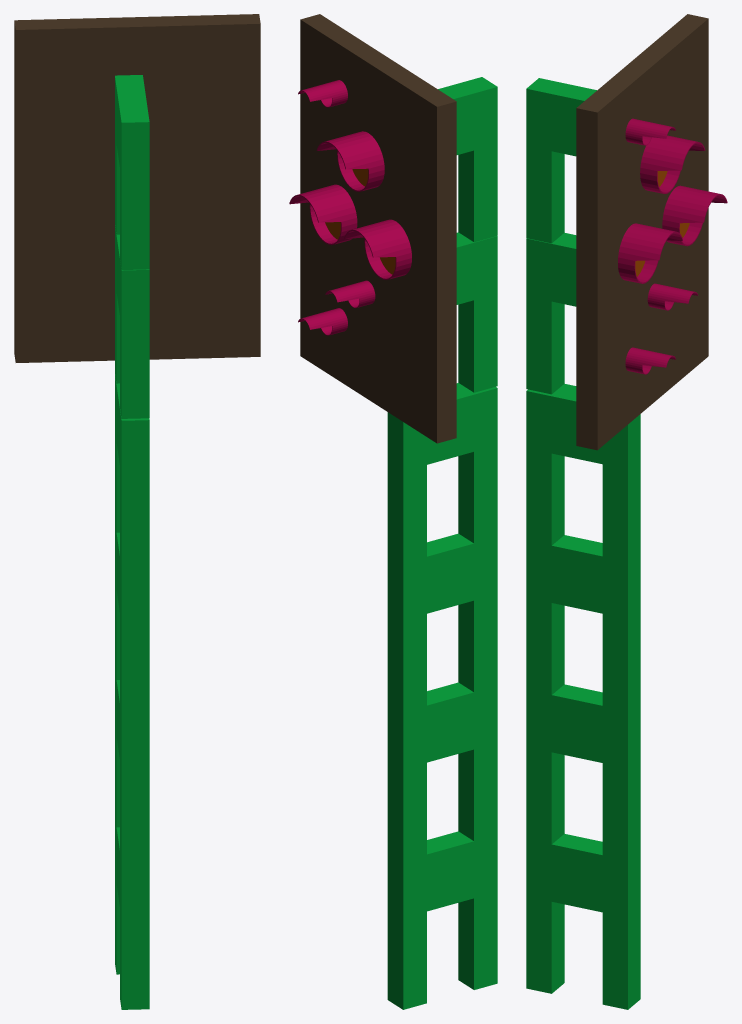
Rendered from advtrains_signals_ks_main_smr30.obj.
3 renders of one model, left to right at view 1: azimuth 30°, elevation 25°; view 2: azimuth 150°, elevation 25°; view 3: azimuth 270°, elevation 25°, orthographic.
Parts seen in each view (by area): view 1: KsHauptsignal_Plane.006_Schirm, KsHauptsignal_Plane.006_Mast; view 2: KsHauptsignal_Plane.006_Mast, KsHauptsignal_Plane.006_Schirm, KsHauptsignal_Plane.006_Lampenrahmen, KsHauptsignal_Plane.006_Lights; view 3: KsHauptsignal_Plane.006_Mast, KsHauptsignal_Plane.006_Schirm, KsHauptsignal_Plane.006_Lampenrahmen.
Part boxes in pixels (x1,y1,x2,y2): KsHauptsignal_Plane.006_Schirm: (14, 14, 260, 362); KsHauptsignal_Plane.006_Mast: (115, 75, 149, 1009); KsHauptsignal_Plane.006_Mast: (387, 77, 497, 1009); KsHauptsignal_Plane.006_Schirm: (300, 14, 456, 443); KsHauptsignal_Plane.006_Lampenrahmen: (289, 80, 411, 335); KsHauptsignal_Plane.006_Lights: (325, 168, 395, 274); KsHauptsignal_Plane.006_Mast: (526, 78, 640, 1009); KsHauptsignal_Plane.006_Schirm: (576, 14, 708, 450); KsHauptsignal_Plane.006_Lampenrahmen: (618, 118, 727, 374).
Bounding box in the file's own units: 0.4685 × 2.1 × 0.4045.
